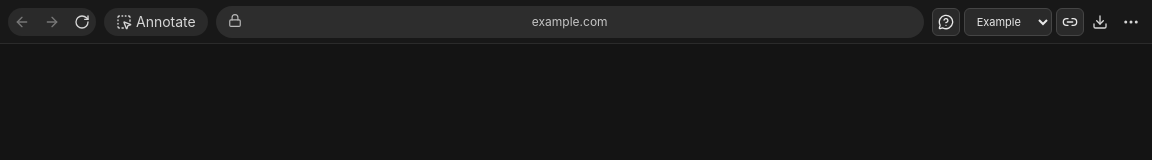
rejects page capture if navigation changes before attachment
Click the button named "Ask about this page" at {"x": 946, "y": 22}, box x1=932 y1=8 x2=960 y2=36
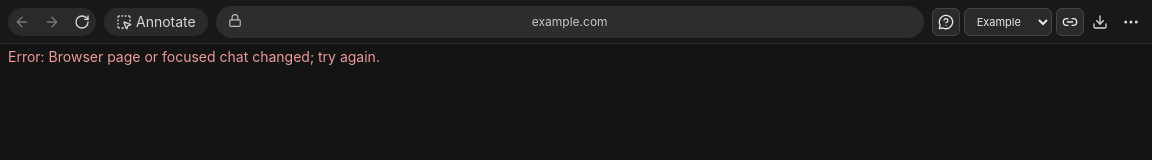
Expected: the message shows "Browser page or focused chat changed", x1=8 y1=48 x2=380 y2=65
